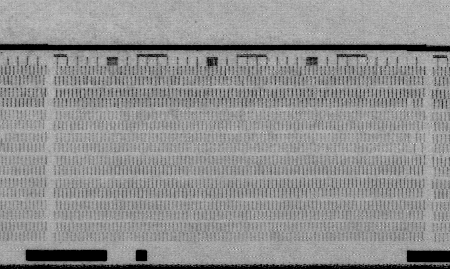Broken hole: (406, 131, 423, 153), (404, 97, 416, 108)
